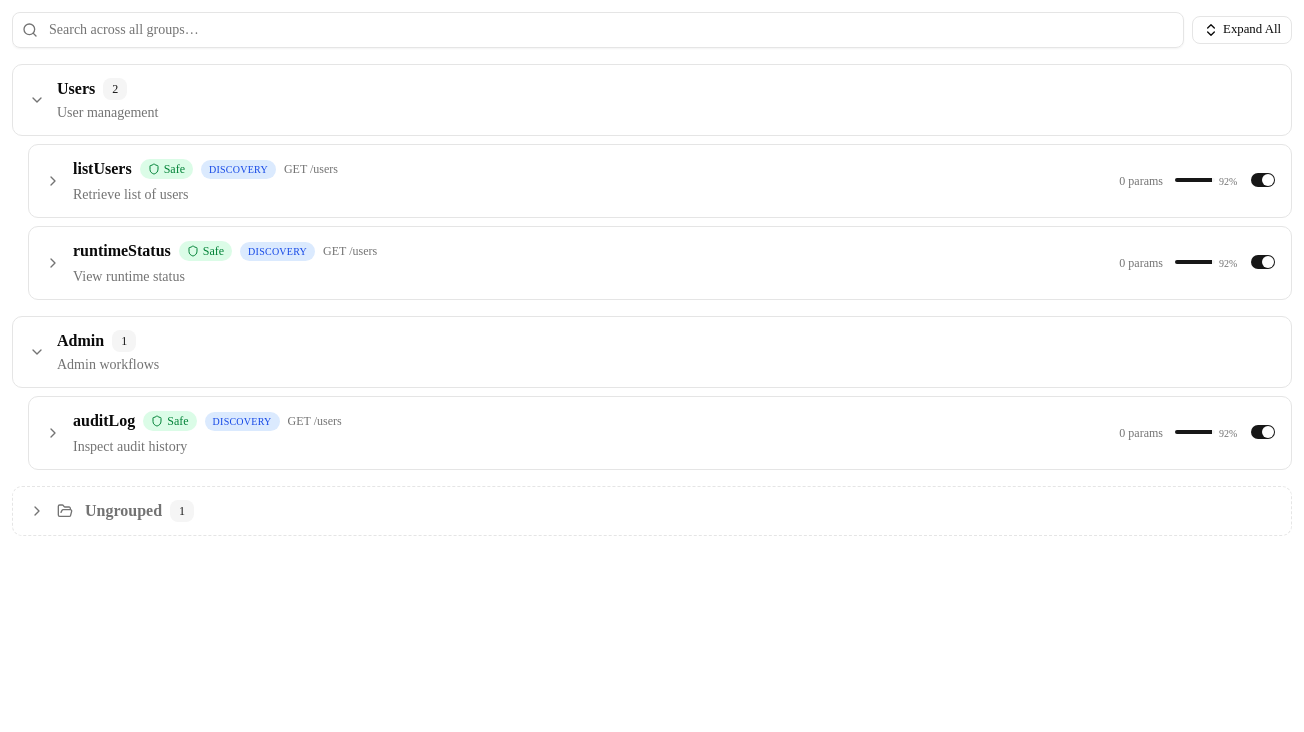
Test case: ToolGroupView › toggles the ungrouped section independently
Click the button "Ungrouped 1": (124, 510) [12,486,1292,536]
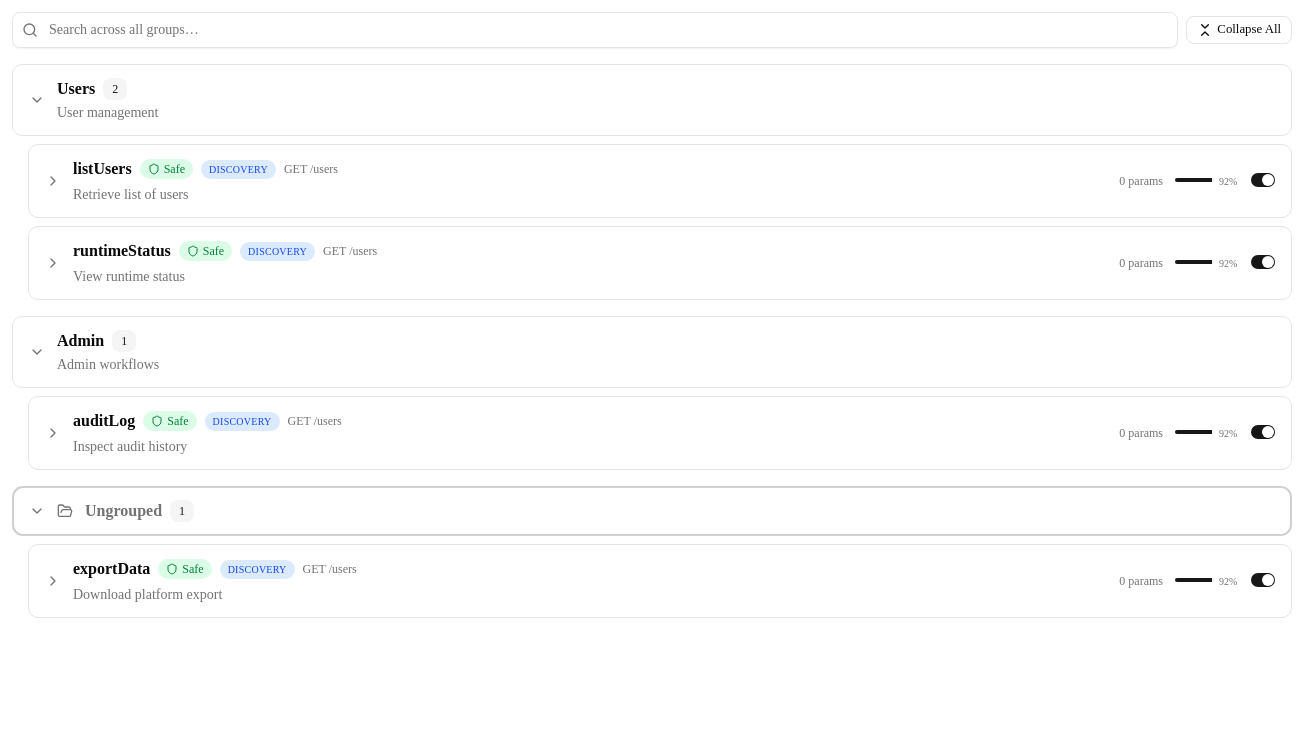
Result: the text "exportData" is shown at [73,557,150,581]
Click the button "Ungrouped 1": (124, 510) [12,486,1292,536]
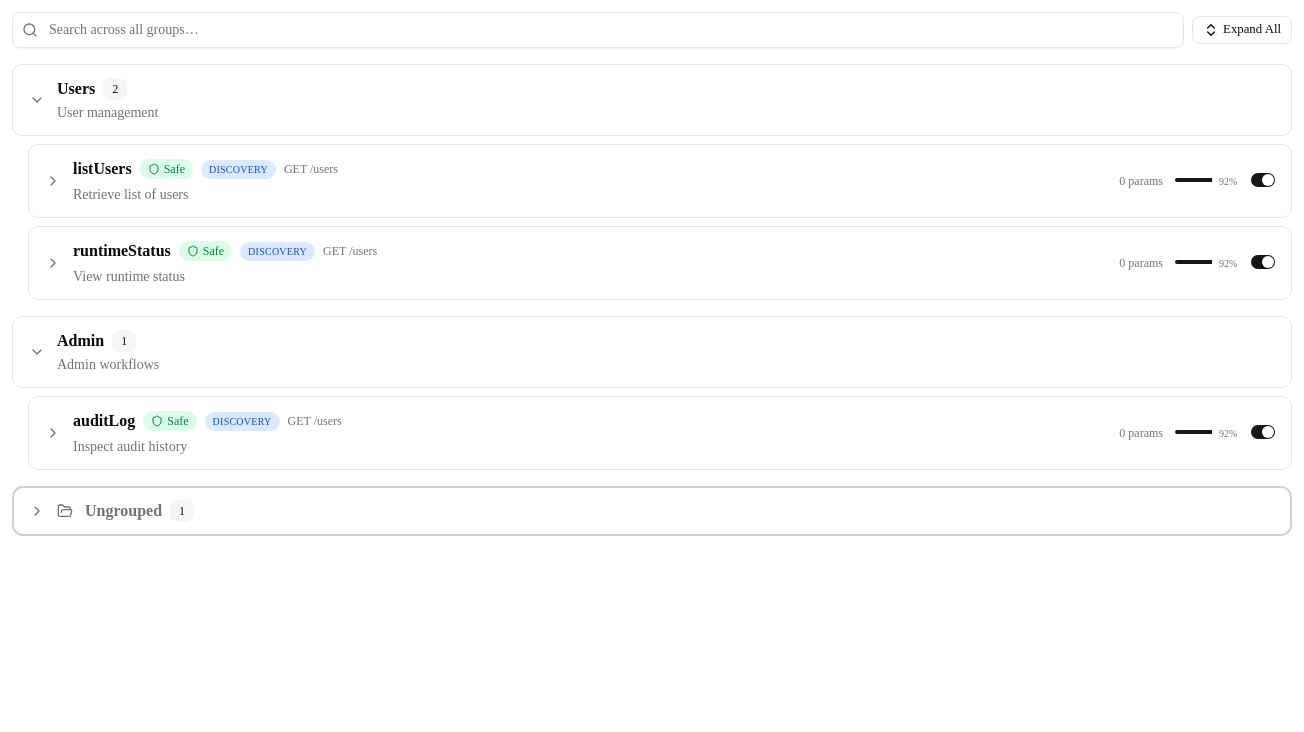
Result: the button "exportData" is gone
